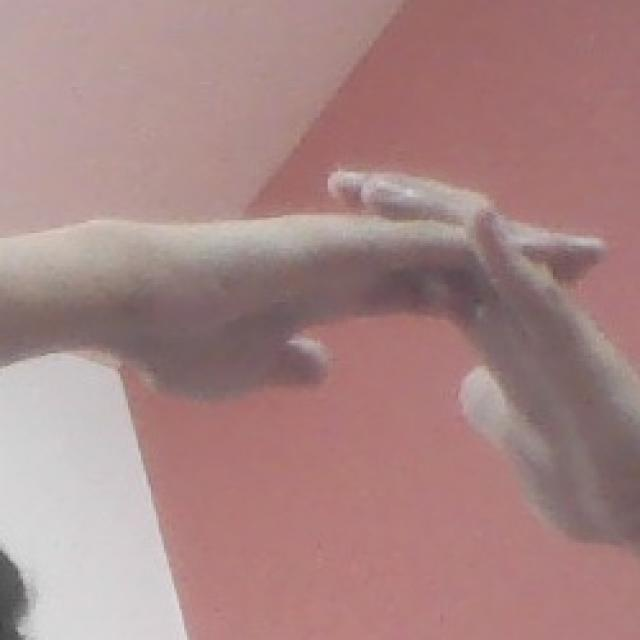Alphabet-W: (120, 150, 638, 552)
